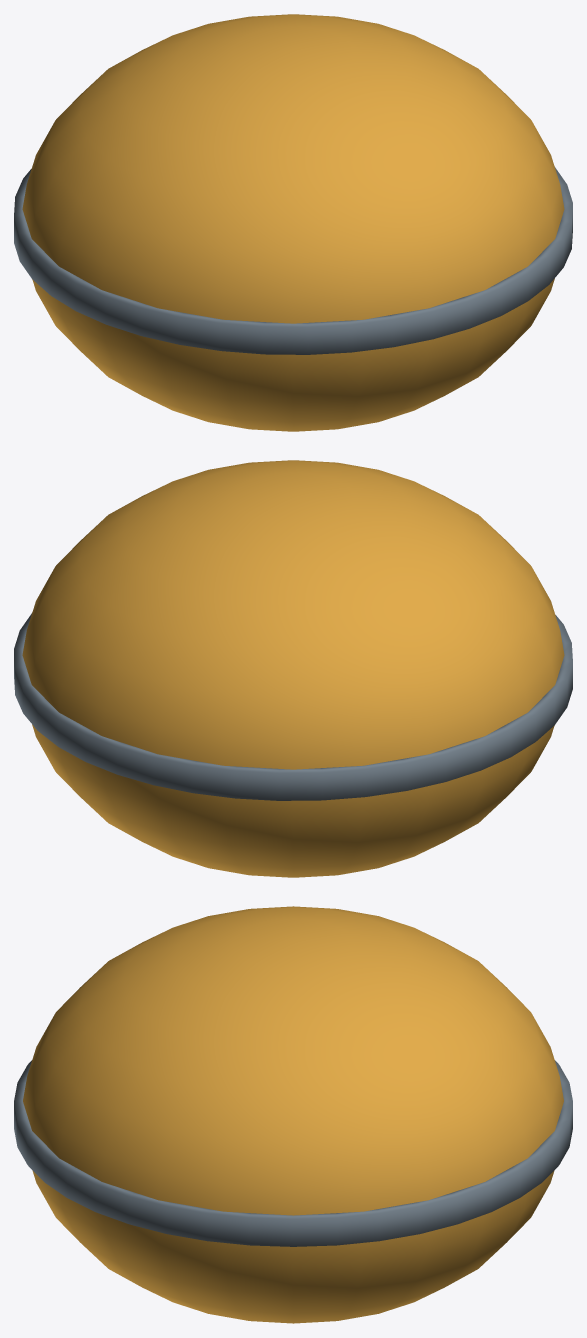
Rendered from mars_descent_stage.propellant_tank_02.glb.
3 views of the same model, one above another, from view 1: azimuth 30°, elevation 25°; view 2: azimuth 150°, elevation 25°; view 3: azimuth 270°, elevation 25° (orthographic).
Visible parts, largest first — view 1: mars_descent_stage.propellant_tank_02.mesh_Gold_thermal_insu, mars_descent_stage.propellant_tank_02.mesh_Machined_steel; view 2: mars_descent_stage.propellant_tank_02.mesh_Gold_thermal_insu, mars_descent_stage.propellant_tank_02.mesh_Machined_steel; view 3: mars_descent_stage.propellant_tank_02.mesh_Gold_thermal_insu, mars_descent_stage.propellant_tank_02.mesh_Machined_steel.
Part boxes in pixels (x1,y1,x2,y2): mars_descent_stage.propellant_tank_02.mesh_Gold_thermal_insu: (22,14,564,431); mars_descent_stage.propellant_tank_02.mesh_Machined_steel: (14,167,572,354); mars_descent_stage.propellant_tank_02.mesh_Gold_thermal_insu: (22,460,564,877); mars_descent_stage.propellant_tank_02.mesh_Machined_steel: (14,613,572,800); mars_descent_stage.propellant_tank_02.mesh_Gold_thermal_insu: (23,906,563,1323); mars_descent_stage.propellant_tank_02.mesh_Machined_steel: (14,1060,572,1246).
Size of the model in its own units: 0.696 by 0.48 by 0.696.
